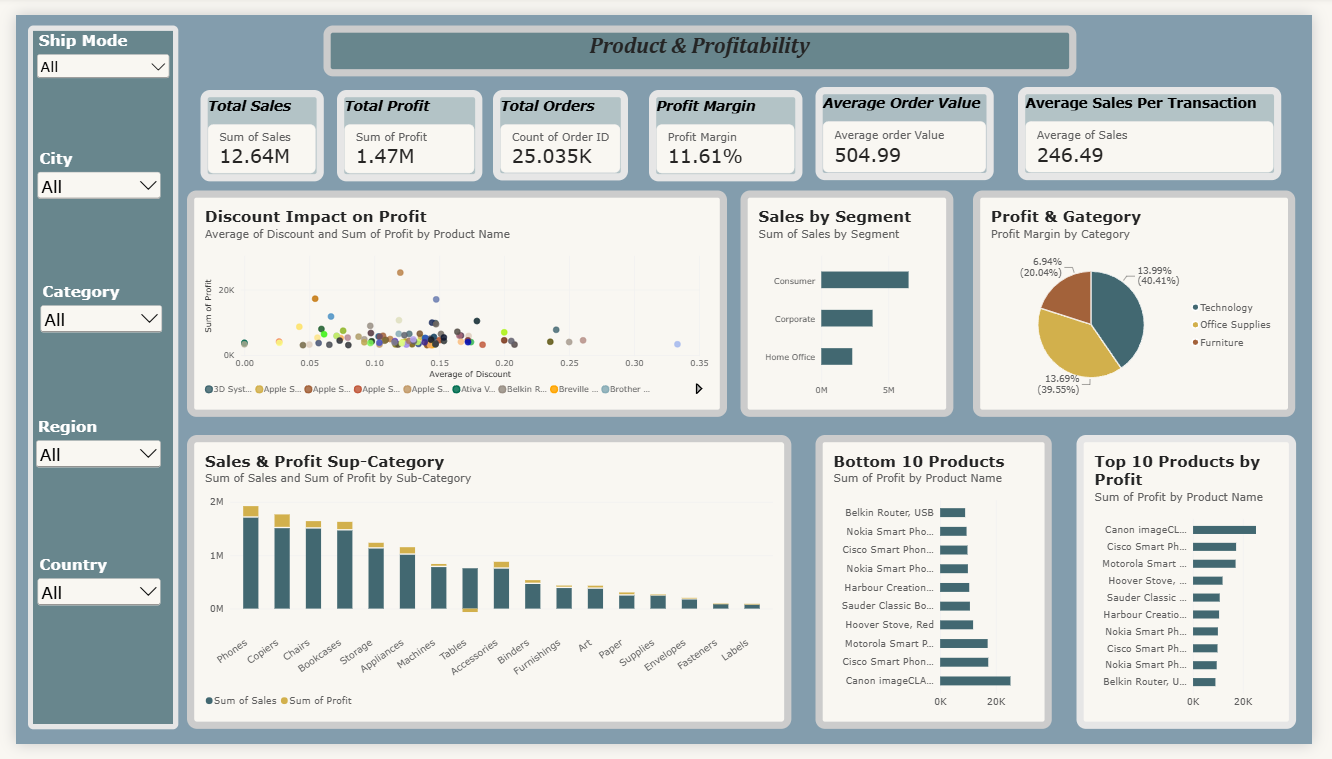

Layout of this report page (visuals, bound fields, positions):
{"tool":"powerbi","page":{"name":"Product & Profitability","canvas":[1920,1080],"ordinal":1},"visuals":[{"type":"columnChart","title":" Sales & Profit Sup-Category","fields":{"Category":["Orders.Sub-Category"],"Y":["Sum(Orders.Sales)","Sum(Orders.Profit)"]},"box":[252.5,622.5,895,435],"z":0},{"type":"clusteredBarChart","title":"Top 10 Products by Profit","fields":{"Category":["Orders.Product Name"],"Y":["Sum(Orders.Profit)"]},"box":[1570,622.5,325,435],"z":1000},{"type":"clusteredBarChart","title":"Bottom 10 Products","fields":{"Category":["Orders.Product Name"],"Y":["Sum(Orders.Profit)"]},"box":[1185,622.5,350,435],"z":2000},{"type":"scatterChart","title":"Discount Impact on Profit","fields":{"Series":["Orders.Product Name"],"X":["Avg(Orders.Discount)"],"Y":["Sum(Orders.Profit)"]},"box":[252.5,260,800,335],"z":3000},{"type":"pieChart","title":"Profit & Gategory","fields":{"Category":["Orders.Category"],"Y":["Orders.Profit Margin"]},"box":[1417.5,260,477.5,335],"z":4000},{"type":"cardVisual","title":"Total Sales","fields":{"Data":["Sum(Orders.Sales)"]},"box":[272.5,110,182.5,135],"z":5000},{"type":"cardVisual","title":"Total Profit","fields":{"Data":["Sum(Orders.Profit)"]},"box":[475,110,215,135],"z":6000},{"type":"cardVisual","title":"Total Orders","fields":{"Data":["Count(Orders.Order ID)"]},"box":[707.5,110,200,134],"z":7000},{"type":"cardVisual","title":"Profit Margin","fields":{"Data":["Orders.Profit Margin"]},"box":[937.5,110,227.5,135],"z":8000},{"type":"cardVisual","title":"Average Order Value","fields":{"Data":["Orders.Average order Value"]},"box":[1185,107.5,264,138],"z":9000},{"type":"cardVisual","title":"Average Sales Per Transaction","fields":{"Data":["Avg(Orders.Sales)"]},"box":[1485,107.5,390,138],"z":10000},{"type":"slicer","fields":{"Values":["Orders.Ship Mode"]},"box":[17.5,15,222.5,1042.5],"z":11000},{"type":"slicer","fields":{"Values":["Orders.City"]},"box":[27.5,197.5,192.5,95],"z":12000},{"type":"slicer","fields":{"Values":["Orders.Category"]},"box":[30,395,190,100],"z":13000},{"type":"slicer","fields":{"Values":["Orders.Region"]},"box":[25,595,195,117.5],"z":14000},{"type":"slicer","fields":{"Values":["Orders.Country"]},"box":[27.5,800,192.5,137.5],"z":15000},{"type":"textbox","box":[455,15,1115,75],"z":16000},{"type":"clusteredBarChart","title":"Sales by Segment","fields":{"Category":["Orders.Segment"],"Y":["Sum(Orders.Sales)"]},"box":[1072.5,260,315,335],"z":17000}]}

Visuals, with their boxes in screenshot pixels (x1, y1, x2, y2), scaled from the page's 1920x1080 canvas onto the 1332x759 screenshot:
" Sales & Profit Sup-Category" columnChart: 175:437:796:743
"Top 10 Products by Profit" clusteredBarChart: 1089:437:1315:743
"Bottom 10 Products" clusteredBarChart: 822:437:1065:743
"Discount Impact on Profit" scatterChart: 175:183:730:418
"Profit & Gategory" pieChart: 983:183:1315:418
"Total Sales" cardVisual: 189:77:316:172
"Total Profit" cardVisual: 330:77:479:172
"Total Orders" cardVisual: 491:77:630:171
"Profit Margin" cardVisual: 650:77:808:172
"Average Order Value" cardVisual: 822:76:1005:173
"Average Sales Per Transaction" cardVisual: 1030:76:1301:173
slicer - Orders.Ship Mode: 12:11:166:743
slicer - Orders.City: 19:139:153:206
slicer - Orders.Category: 21:278:153:348
slicer - Orders.Region: 17:418:153:501
slicer - Orders.Country: 19:562:153:659
textbox: 316:11:1089:63
"Sales by Segment" clusteredBarChart: 744:183:963:418
